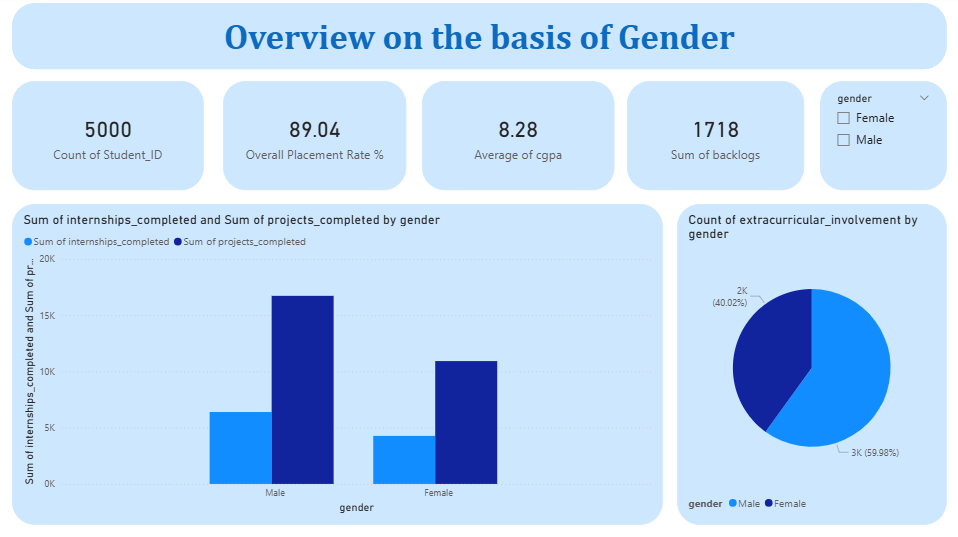

The dashboard page shown, as its layout file describes it:
{"tool":"powerbi","page":{"name":"Students ","canvas":[1280,720],"ordinal":2},"visuals":[{"type":"card","fields":{"Values":["CountNonNull(indian_engineering_student_plac.Student_ID)"]},"box":[27.4,110.9,250.6,142.6],"z":0},{"type":"card","fields":{"Values":["indian_engineering_student_plac.Overall Placement Rate %"]},"box":[303.8,110.9,240.5,142.6],"z":1000},{"type":"card","fields":{"Values":["Avg(indian_engineering_student_plac.cgpa)"]},"box":[564.5,110.9,252,142.6],"z":2000},{"type":"card","fields":{"Values":["Sum(indian_engineering_student_plac.backlogs)"]},"box":[832.3,110.9,231.8,142.6],"z":3000},{"type":"clusteredColumnChart","fields":{"Category":["indian_engineering_student_plac.gender"],"Y":["Sum(indian_engineering_student_plac.internships_completed)","Sum(indian_engineering_student_plac.projects_completed)"]},"box":[27.5,272.5,852,419.8],"z":4000},{"type":"slicer","fields":{"Values":["indian_engineering_student_plac.gender"]},"box":[1085.8,110.9,165.6,142.6],"z":5000},{"type":"pieChart","title":"Count of extracurricular_involvement by City tier","fields":{"Y":["CountNonNull(indian_engineering_student_plac.extracurricular_involvement)"],"Category":["indian_engineering_student_plac.branch"]},"box":[898.6,272.2,352.8,420.5],"z":7000},{"type":"shape","box":[27.5,9.6,1223.6,86.7],"z":8000}]}

Visuals, with their boxes in screenshot pixels (x1, y1, x2, y2), scaled from the page's 1280x720 canvas onto the 958x537 screenshot:
card - CountNonNull(indian_engineering_student_plac.Student_ID): box(21, 83, 208, 189)
card - indian_engineering_student_plac.Overall Placement Rate %: box(227, 83, 407, 189)
card - Avg(indian_engineering_student_plac.cgpa): box(422, 83, 611, 189)
card - Sum(indian_engineering_student_plac.backlogs): box(623, 83, 796, 189)
clusteredColumnChart - indian_engineering_student_plac.gender x Sum(indian_engineering_student_plac.internships_completed): box(21, 203, 658, 516)
slicer - indian_engineering_student_plac.gender: box(813, 83, 937, 189)
"Count of extracurricular_involvement by City tier" pieChart: box(673, 203, 937, 517)
shape: box(21, 7, 936, 72)
